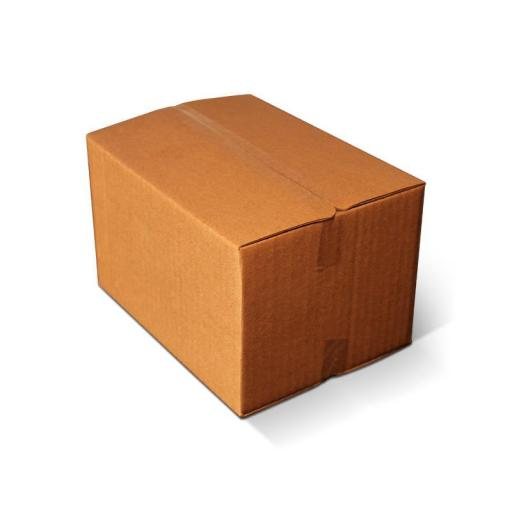plastic bottle: (87, 92, 426, 420)
